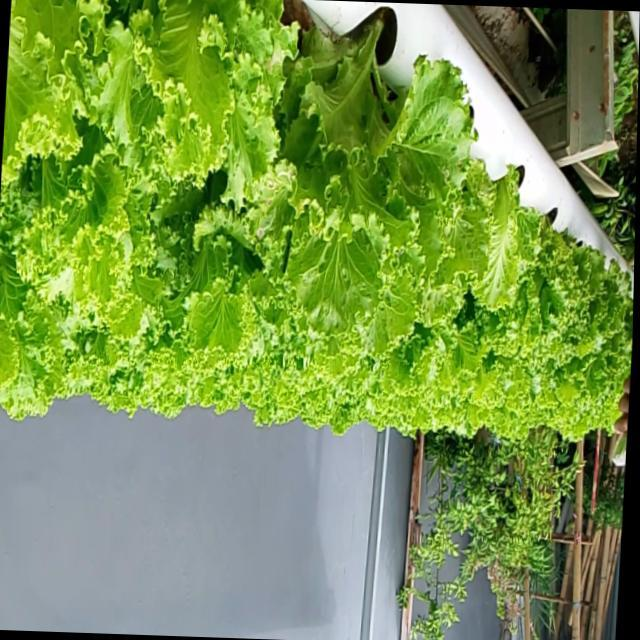Mature: (0, 0, 634, 438), (254, 1, 476, 337), (487, 192, 598, 359)
